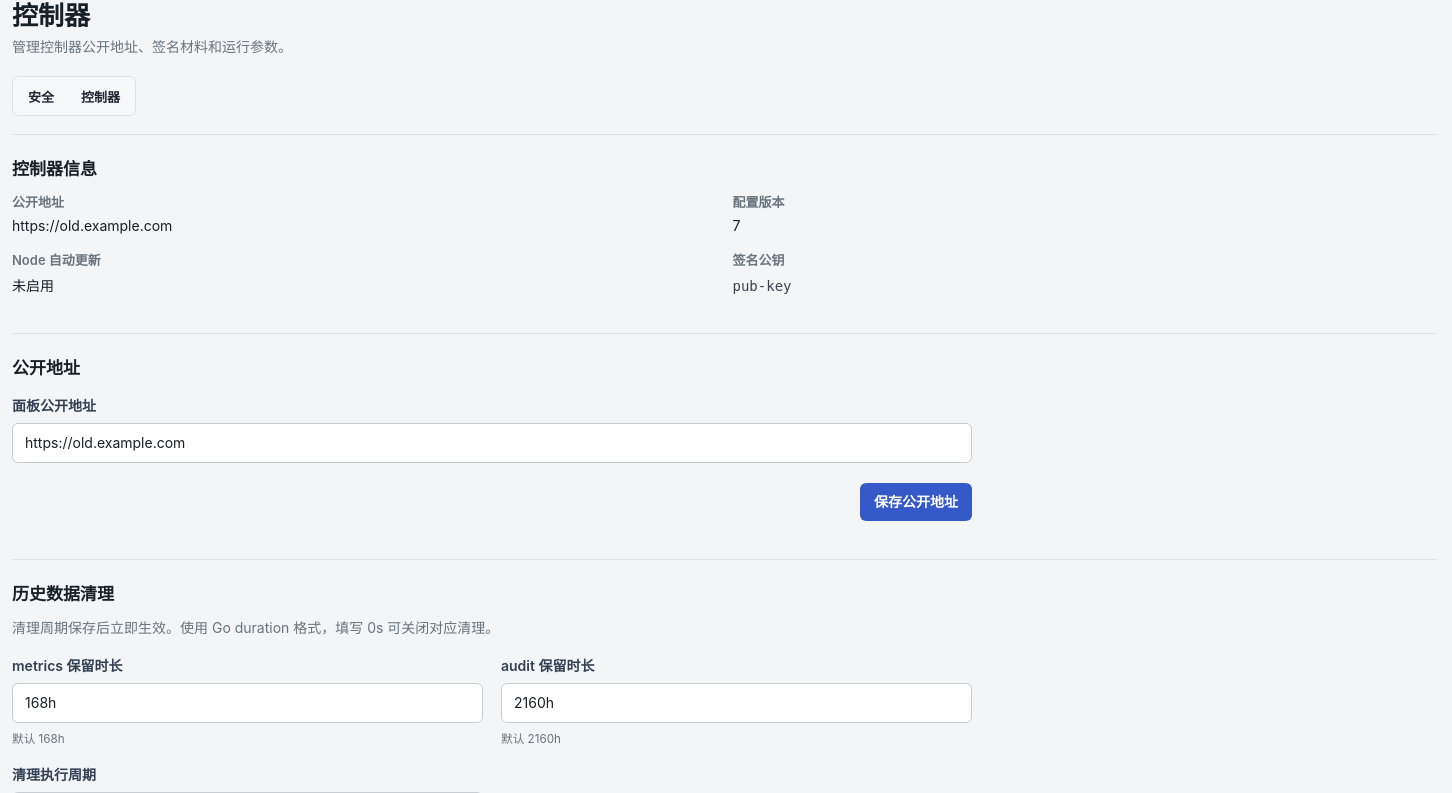
Scenario: auth and security flows › updates the controller public URL from settings
Replace the text in the field labelled "面板公开地址" with "https://new.example.com" at (492, 443), box [12,423,972,463]
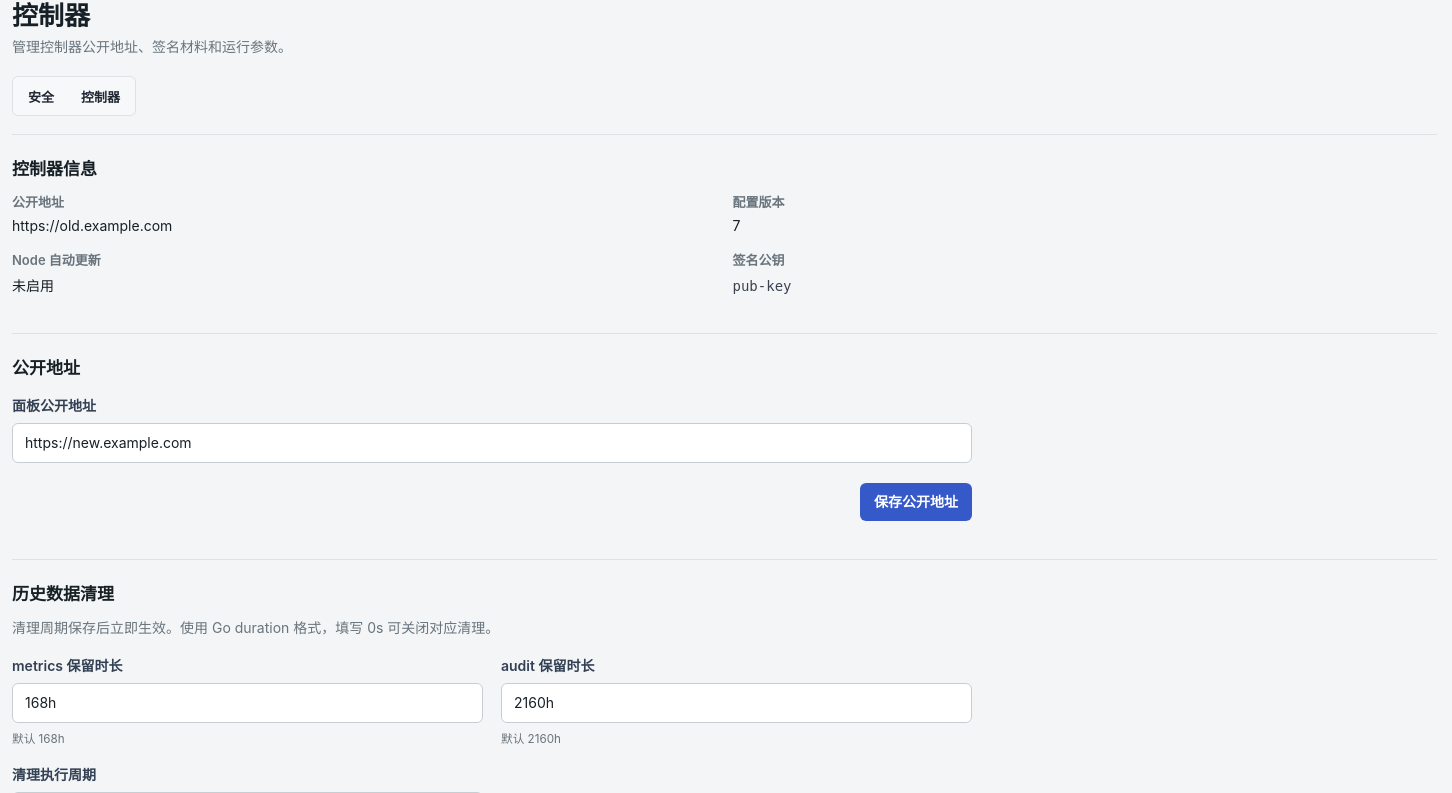
Click the button "保存公开地址" at (916, 502), box [860,483,972,521]
(page scrolled)
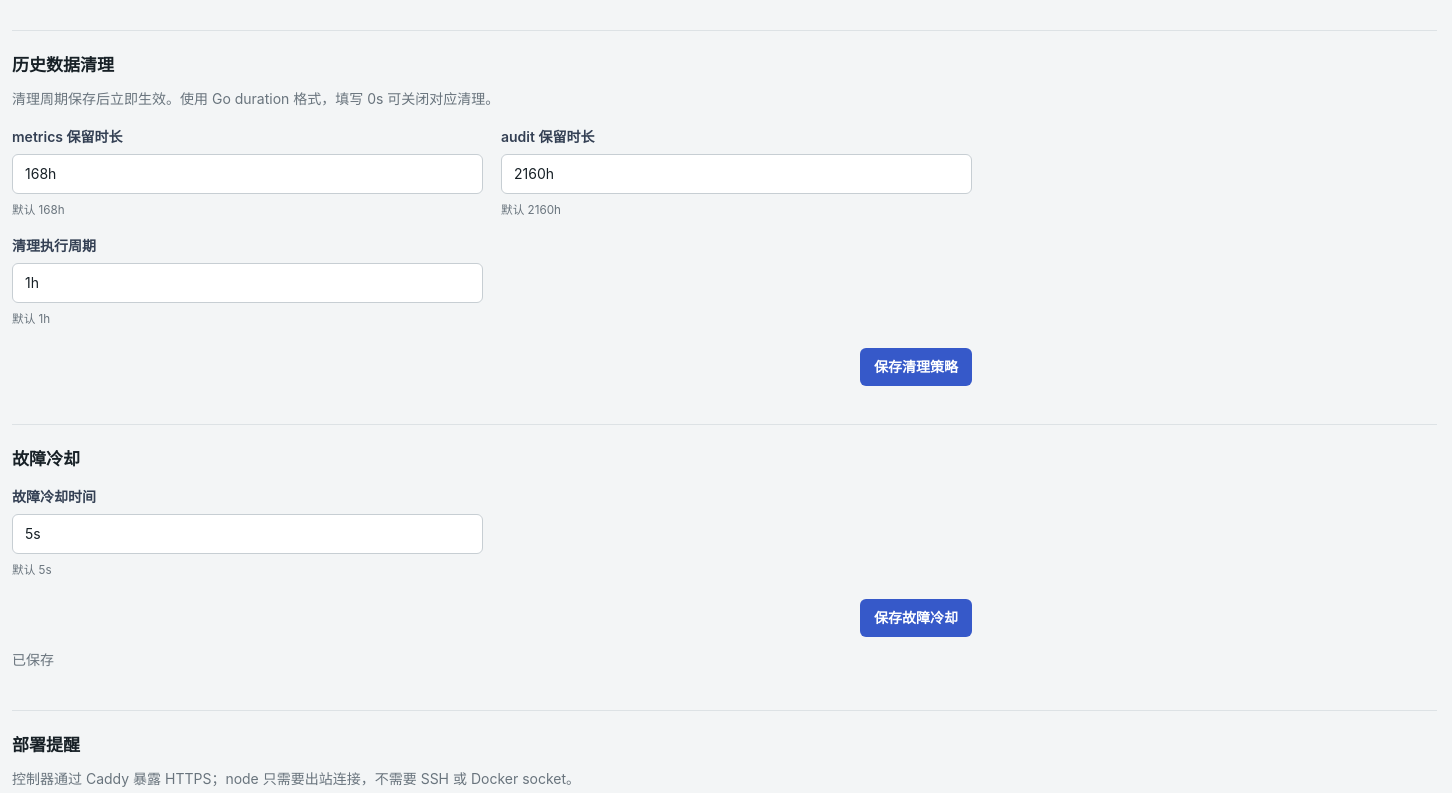
Result: the text "已保存" is shown at [12,651,54,668]
